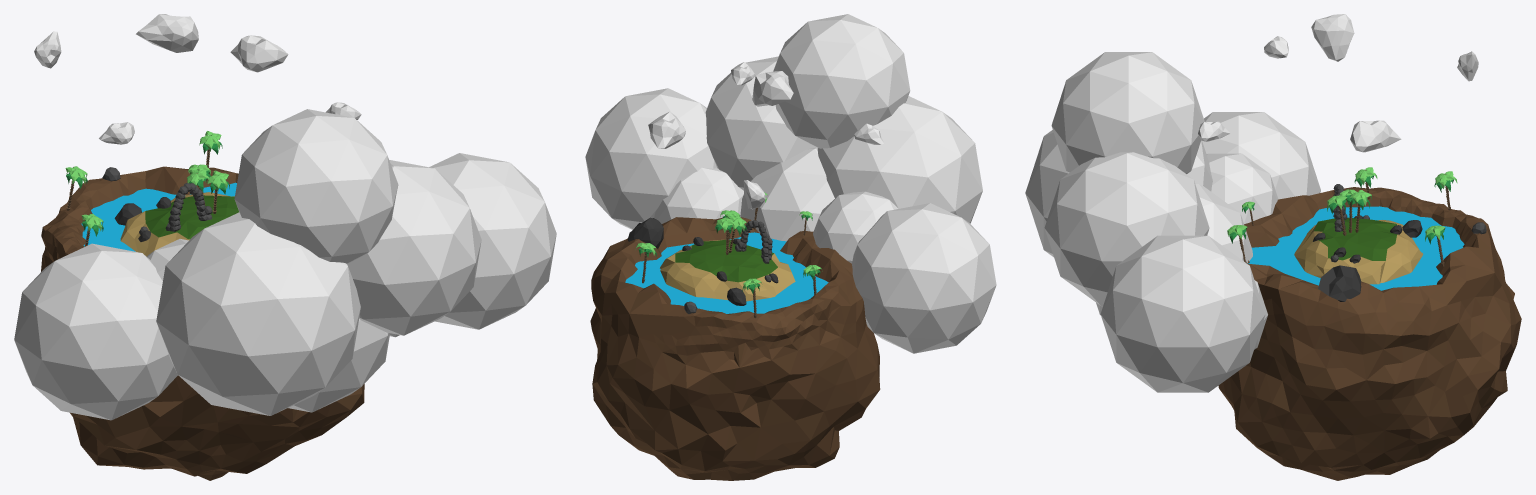
File: Island.glb
3 views of the same model, side by side, from view 1: azimuth 30°, elevation 25°; view 2: azimuth 150°, elevation 25°; view 3: azimuth 270°, elevation 25° (orthographic). The views are drawn at different scales.
Visible parts, largest first — view 1: Icosphere.049, Icosphere.001, Icosphere.050, Icosphere.052, Icosphere.048, Icosphere.051, Icosphere, Icosphere.046, Icosphere.047, Icosphere.004, Icosphere.005, Icosphere.002; view 2: Icosphere.001, Icosphere.050, Icosphere.052, Icosphere.049, Icosphere.051, Icosphere.048, Icosphere, Icosphere.005, Icosphere.045, Icosphere.046, Icosphere.047, Icosphere.042 (+1 smaller); view 3: Icosphere.001, Icosphere.051, Icosphere.048, Icosphere.052, Icosphere.050, Icosphere.005, Icosphere.049, Icosphere, Icosphere.046, Icosphere.047, Icosphere.042.
Boxes of the visible parts, <box> form: Icosphere.049: <box>156,212,360,415</box>; Icosphere.001: <box>41,166,364,480</box>; Icosphere.050: <box>14,243,177,420</box>; Icosphere.052: <box>234,109,398,263</box>; Icosphere.048: <box>347,160,481,335</box>; Icosphere.051: <box>429,153,556,329</box>; Icosphere: <box>288,319,389,412</box>; Icosphere.046: <box>136,14,198,52</box>; Icosphere.047: <box>230,35,288,72</box>; Icosphere.004: <box>34,31,61,68</box>; Icosphere.005: <box>147,239,188,281</box>; Icosphere.002: <box>99,122,134,144</box>; Icosphere.001: <box>590,217,880,480</box>; Icosphere.050: <box>852,203,996,353</box>; Icosphere.052: <box>773,14,910,148</box>; Icosphere.049: <box>817,96,982,223</box>; Icosphere.051: <box>585,88,716,229</box>; Icosphere.048: <box>705,56,815,190</box>; Icosphere: <box>740,147,834,241</box>; Icosphere.005: <box>813,191,898,263</box>; Icosphere.045: <box>654,167,743,223</box>; Icosphere.046: <box>752,71,793,106</box>; Icosphere.047: <box>648,111,685,148</box>; Icosphere.042: <box>627,217,663,248</box>; Icosphere.001: <box>1218,187,1521,480</box>; Icosphere.051: <box>1100,235,1265,392</box>; Icosphere.048: <box>1044,152,1209,306</box>; Icosphere.052: <box>1051,52,1204,173</box>; Icosphere.050: <box>1202,112,1320,199</box>; Icosphere.005: <box>1206,153,1278,223</box>; Icosphere.049: <box>1025,130,1212,257</box>; Icosphere: <box>1096,184,1252,315</box>; Icosphere.046: <box>1311,14,1354,61</box>; Icosphere.047: <box>1350,120,1401,152</box>; Icosphere.042: <box>1318,265,1361,301</box>.
Size of the model in its own units: 378 by 347 by 364.
